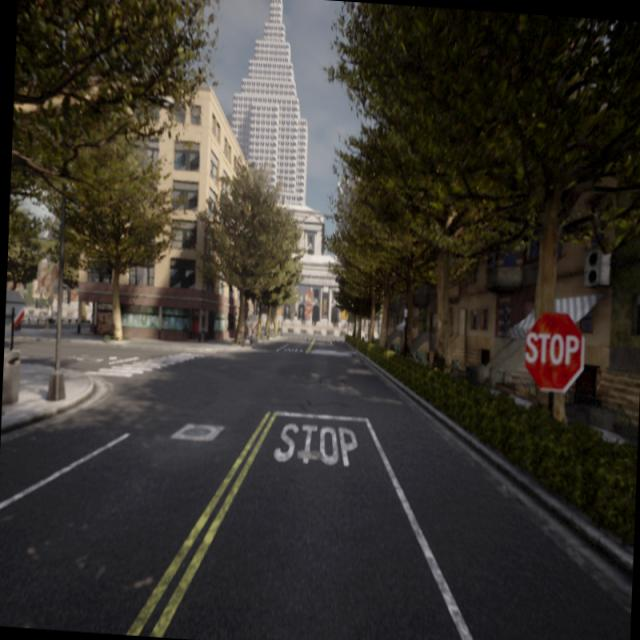stop sign: (521, 308, 586, 395), (525, 330, 580, 367)
